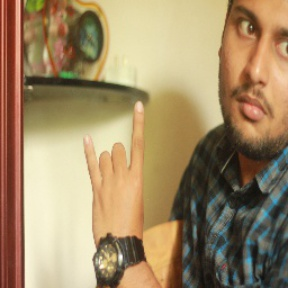V: (77, 99, 156, 246)
